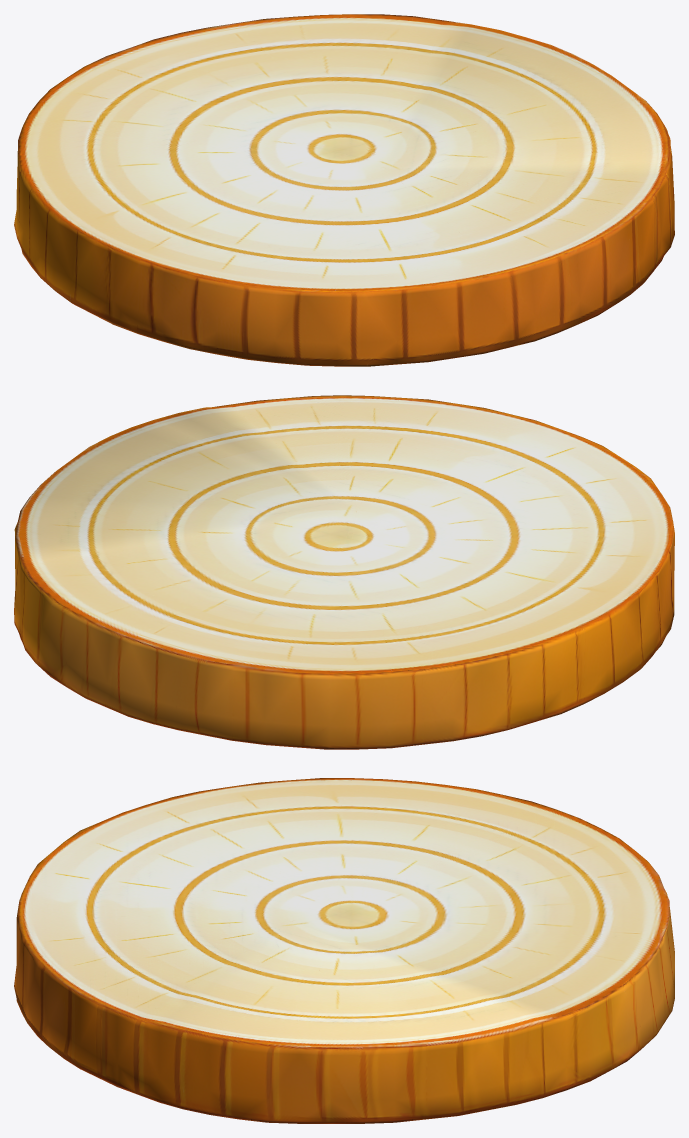
File: onion_slice_circle.fbx
The picture shows the model from 3 angles, top to bottom: view 1: azimuth 30°, elevation 25°; view 2: azimuth 150°, elevation 25°; view 3: azimuth 270°, elevation 25°; orthographic projection.
Parts seen in each view (by area): view 1: onion_circle; view 2: onion_circle; view 3: onion_circle.
Boxes of the visible parts, box(x1,y1,x2,y2) form: onion_circle: box(14, 14, 674, 366); onion_circle: box(14, 395, 674, 749); onion_circle: box(14, 778, 674, 1123).
Bounding box in the file's own units: 19.26 × 2.5 × 19.57.
1 material, 1 textured.
